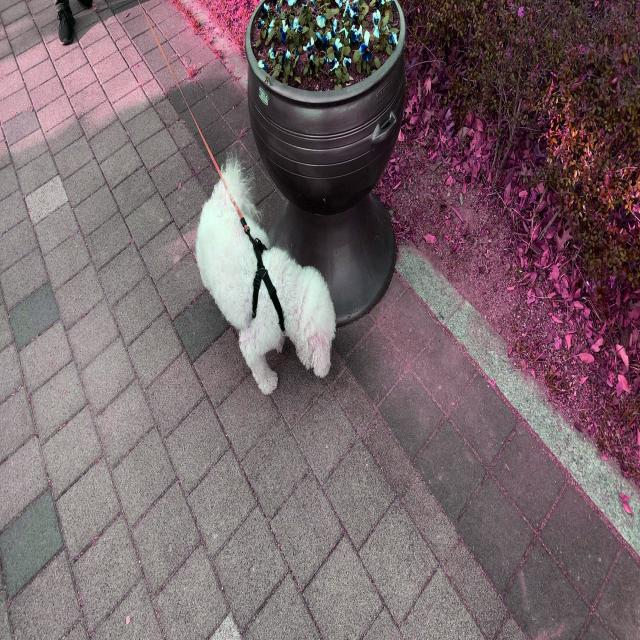Dog: (194, 144, 337, 398)
